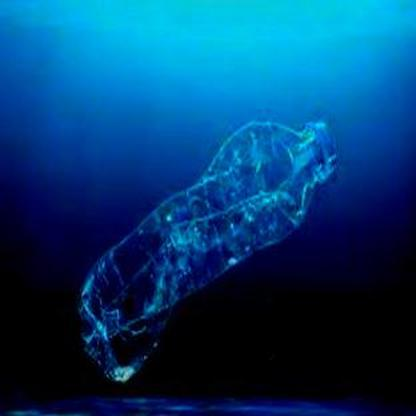plastic bottle: (77, 118, 341, 381)
